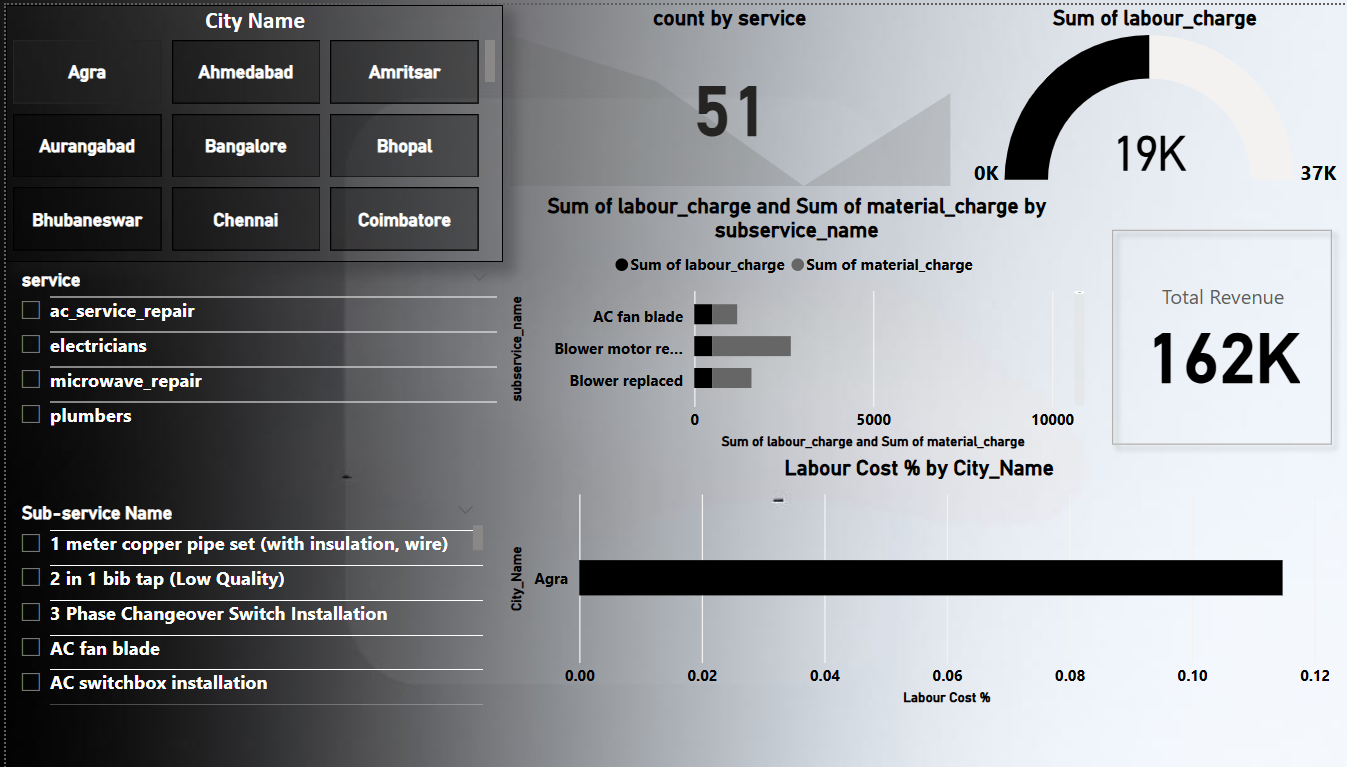

What the dashboard file says about the page in this screenshot:
{"tool":"powerbi","page":{"name":"Page 3","canvas":[1280,720],"ordinal":2},"visuals":[{"type":"barChart","fields":{"Category":["UC.subservice_name"],"Y":["Sum(UC.labour_charge)","Sum(UC.material_charge)"]},"box":[398,150,470,210],"z":0},{"type":"kpi","fields":{"TrendLine":["UC.service"],"Indicator":["UC.count"]},"box":[398,0,363,150],"z":1000},{"type":"barChart","fields":{"Y":["UC.Labour Cost %"],"Category":["UC.City_Name"]},"box":[398,360,666,205],"z":2000},{"type":"advancedSlicerVisual","title":"City Name","fields":{"Values":["UC.City_Name"]},"box":[0,0,398,206],"z":3000},{"type":"slicer","fields":{"Values":["UC.service"]},"box":[0,206,398,187],"z":4000},{"type":"slicer","fields":{"Values":["UC.subservice_name"]},"box":[0,393,387,172],"z":5000},{"type":"gauge","fields":{"Y":["Sum(UC.labour_charge)"]},"box":[761,0,317,150],"z":6000},{"type":"cardVisual","fields":{"Data":["UC.Total_Revenue"]},"box":[868,163,210,206],"z":7000}]}

Visuals, with their boxes in screenshot pixels (x1, y1, x2, y2), scaled from the page's 1280x720 canvas onto the 1347x767 screenshot:
barChart - UC.subservice_name x Sum(UC.labour_charge): pyautogui.locateOnScreen(419, 160, 913, 384)
kpi - UC.service x UC.count: pyautogui.locateOnScreen(419, 0, 801, 160)
barChart - UC.Labour Cost % x UC.City_Name: pyautogui.locateOnScreen(419, 384, 1120, 602)
"City Name" advancedSlicerVisual: pyautogui.locateOnScreen(0, 0, 419, 219)
slicer - UC.service: pyautogui.locateOnScreen(0, 219, 419, 419)
slicer - UC.subservice_name: pyautogui.locateOnScreen(0, 419, 407, 602)
gauge - Sum(UC.labour_charge): pyautogui.locateOnScreen(801, 0, 1134, 160)
cardVisual - UC.Total_Revenue: pyautogui.locateOnScreen(913, 174, 1134, 393)
